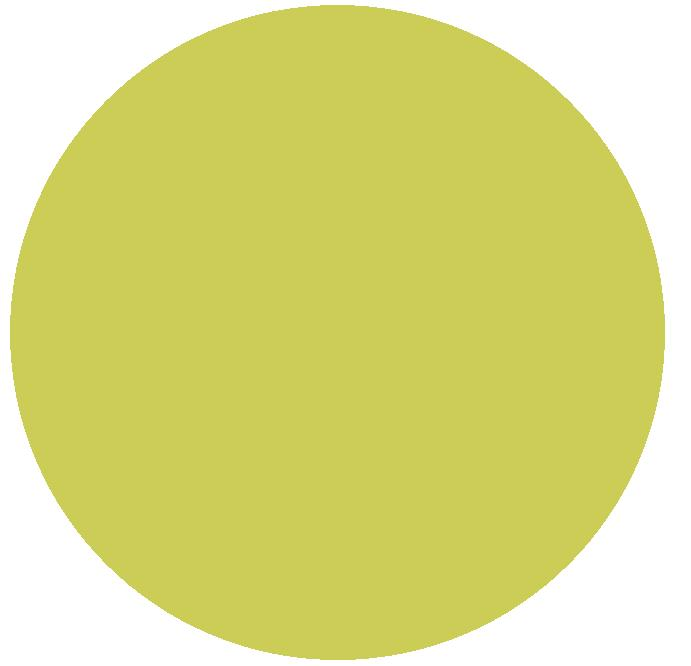yellow_circle: (0, 0, 681, 666)
